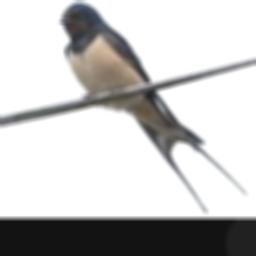Swallow: (58, 2, 247, 212)
